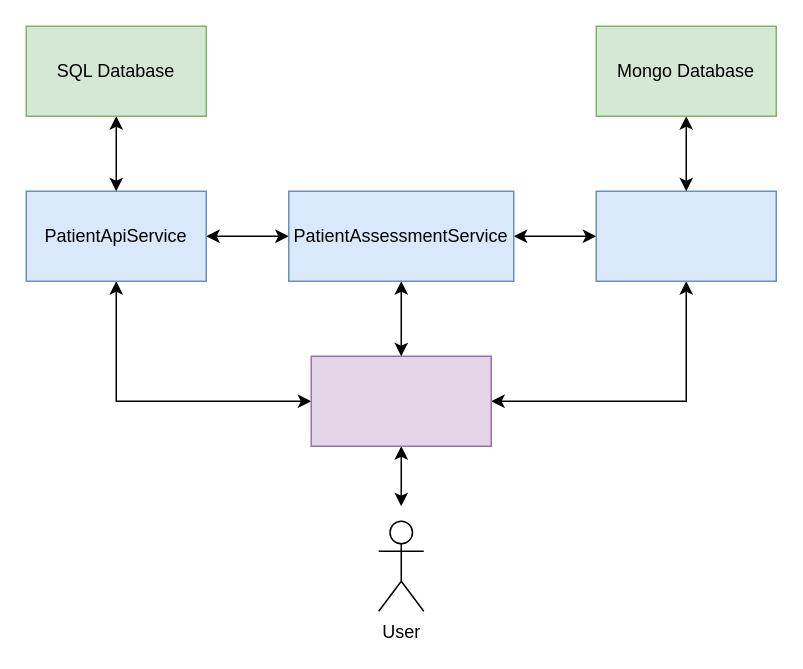
The diagram is 803 pixels wide and 669 high, and some of its shapes have lost their labels. Each missing label, with the centre of its shape:
NotesPatientService: the point at 685,235
UserInterfaceService: the point at 400,400
